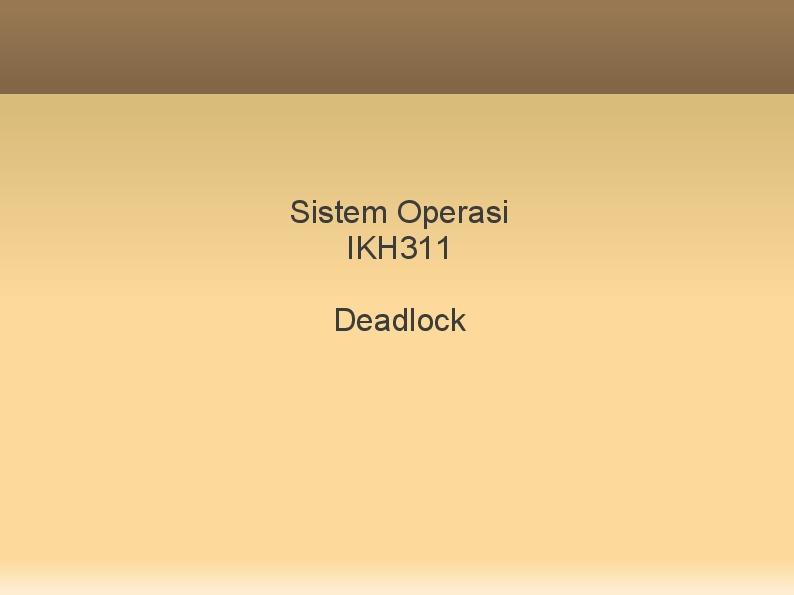title: (284, 174, 581, 369)
